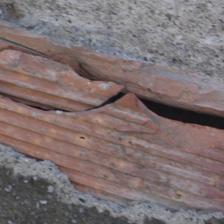Crack: (36, 77, 96, 145), (115, 61, 146, 107)
